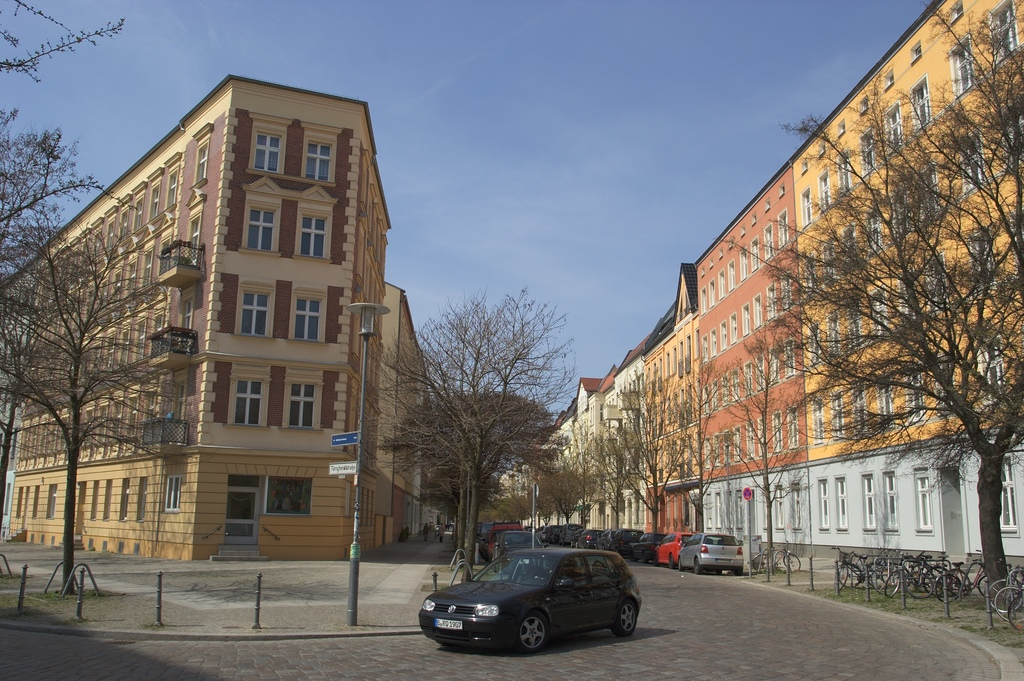Car: (421, 518, 748, 652)
